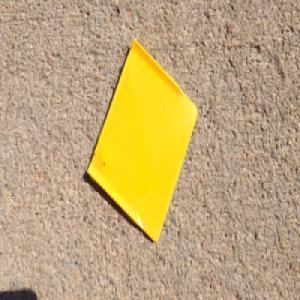PlasticPart: (84, 34, 196, 241)
